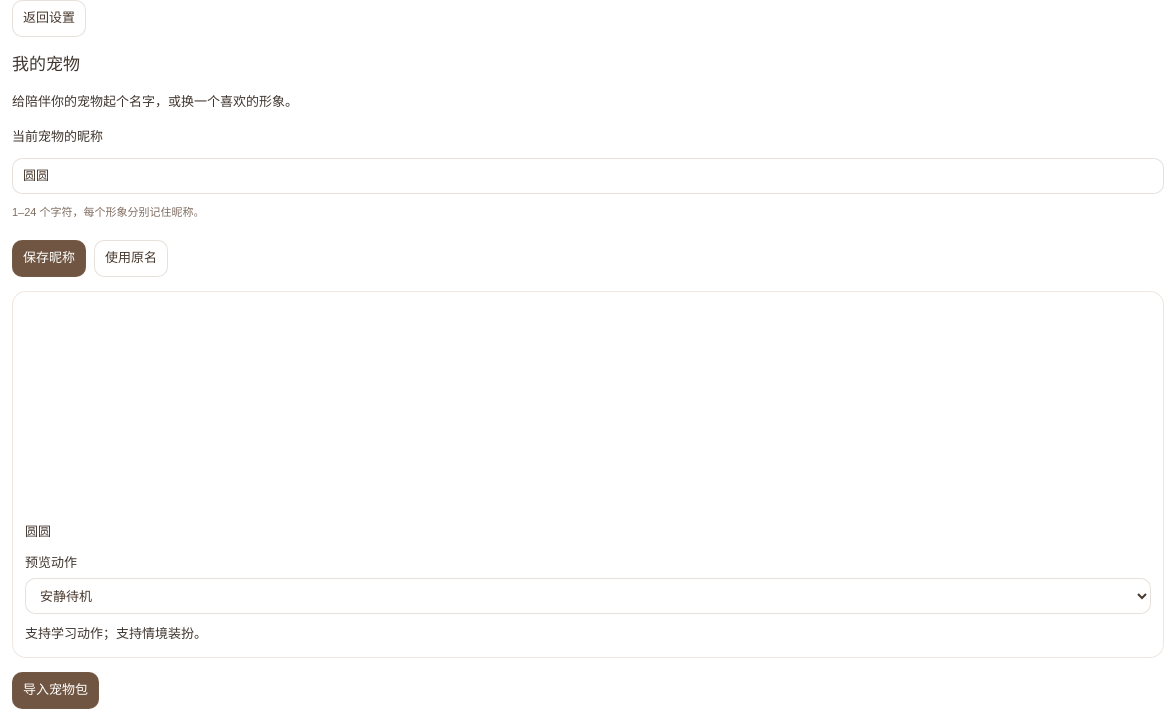
Test: cancels a staged import and never exposes removal for the built-in pet
Click the button "导入宠物包".
click(56, 691)  # box [12,672,99,709]
(page scrolled)
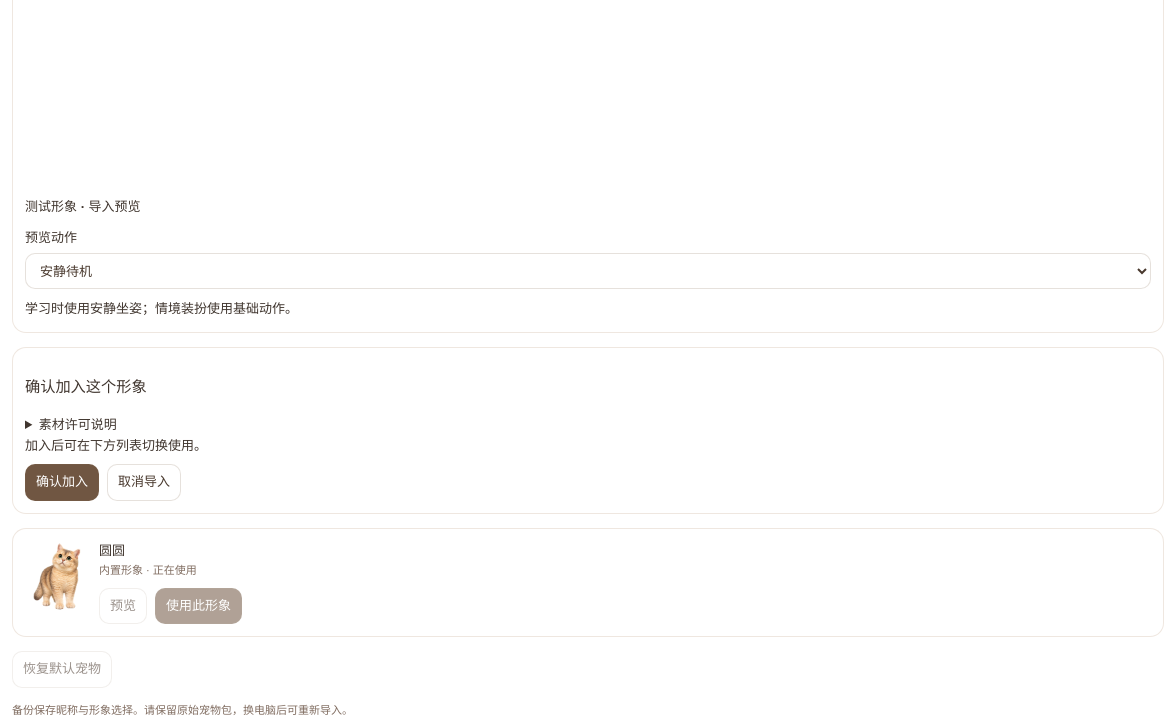
Click the button "取消导入".
click(144, 483)  # box [107,464,181,501]
(page scrolled)
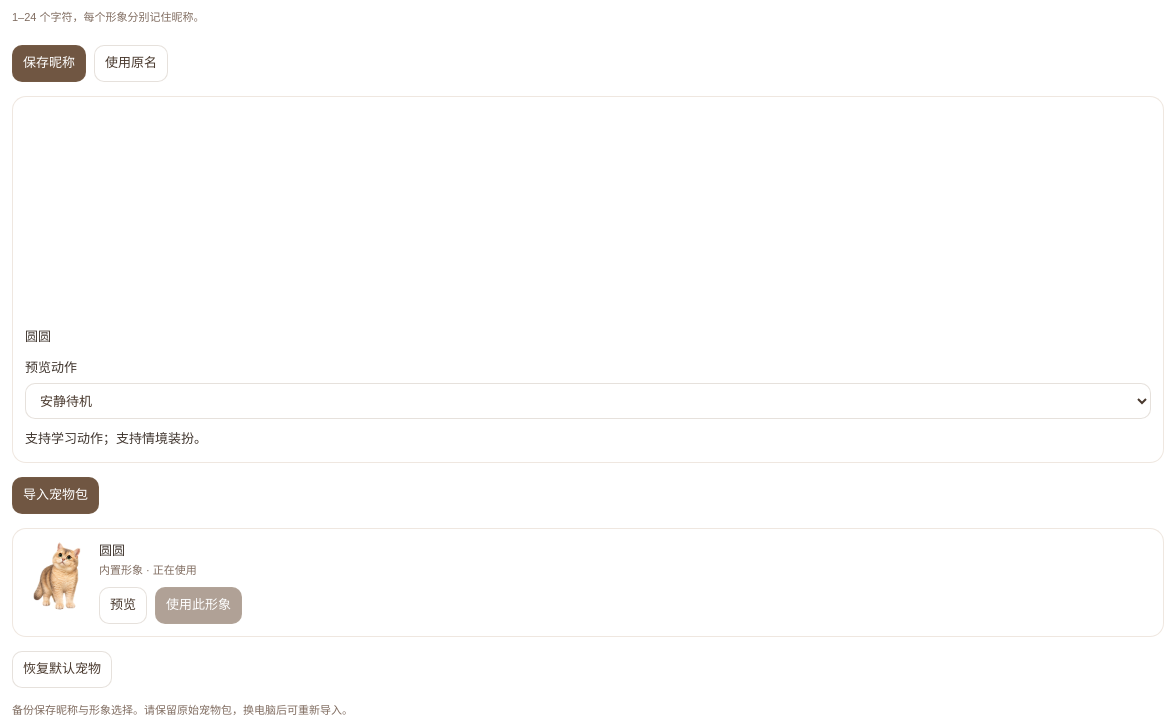
Now the text "确认加入这个形象" is gone
